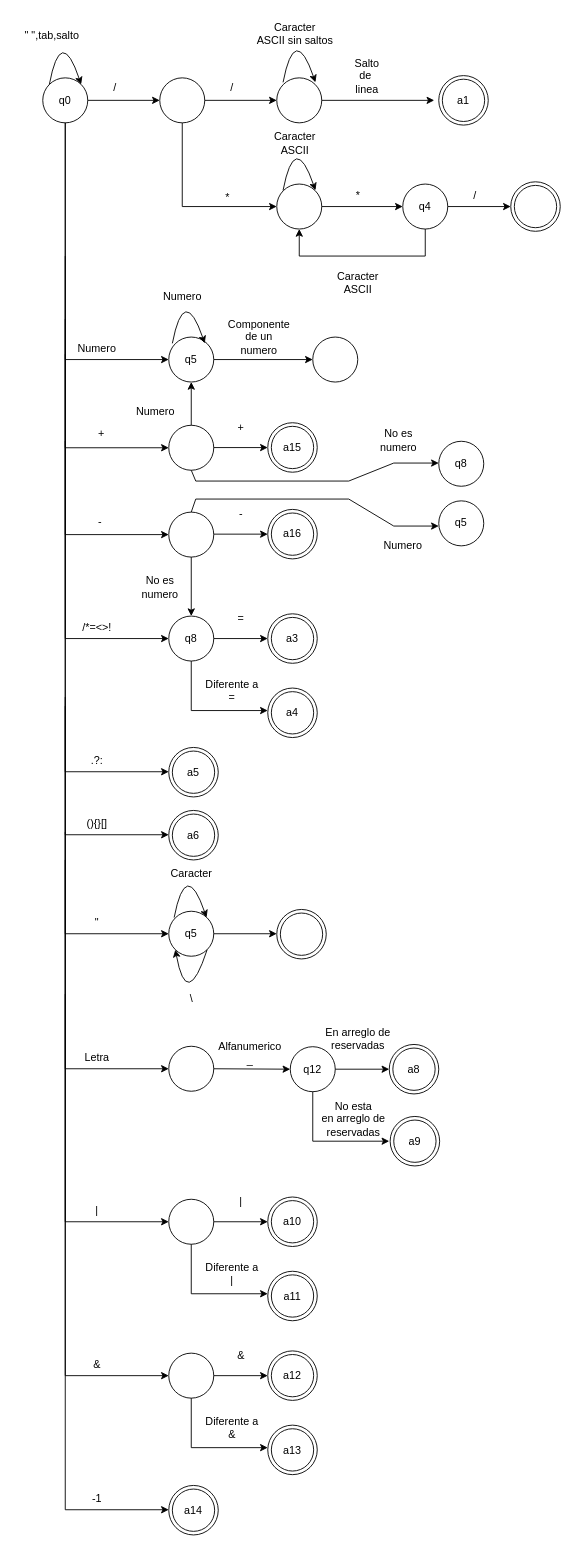
This 576x1551 diagram has some shape labels left out. The shapes that lost their labels are listed below. From the top down, each one's centre as x and y in pixels, then its label:
(x=182, y=100): q1
(x=299, y=100): q2
(x=299, y=206): q3
(x=535, y=206): a2
(x=335, y=359): q7
(x=191, y=447): q16
(x=191, y=534): q19
(x=301, y=934): a7
(x=191, y=1068): q11
(x=191, y=1221): q17
(x=191, y=1375): q18
